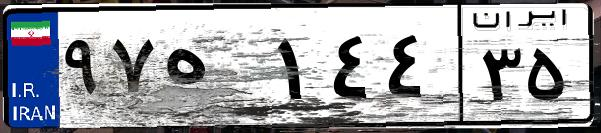1: (270, 28, 330, 110)
3: (475, 38, 525, 113)
4: (385, 28, 445, 110), (330, 28, 385, 110)
5: (525, 38, 570, 115)
7: (110, 28, 158, 98)
9: (57, 26, 110, 100)
ه: (158, 20, 270, 120)
